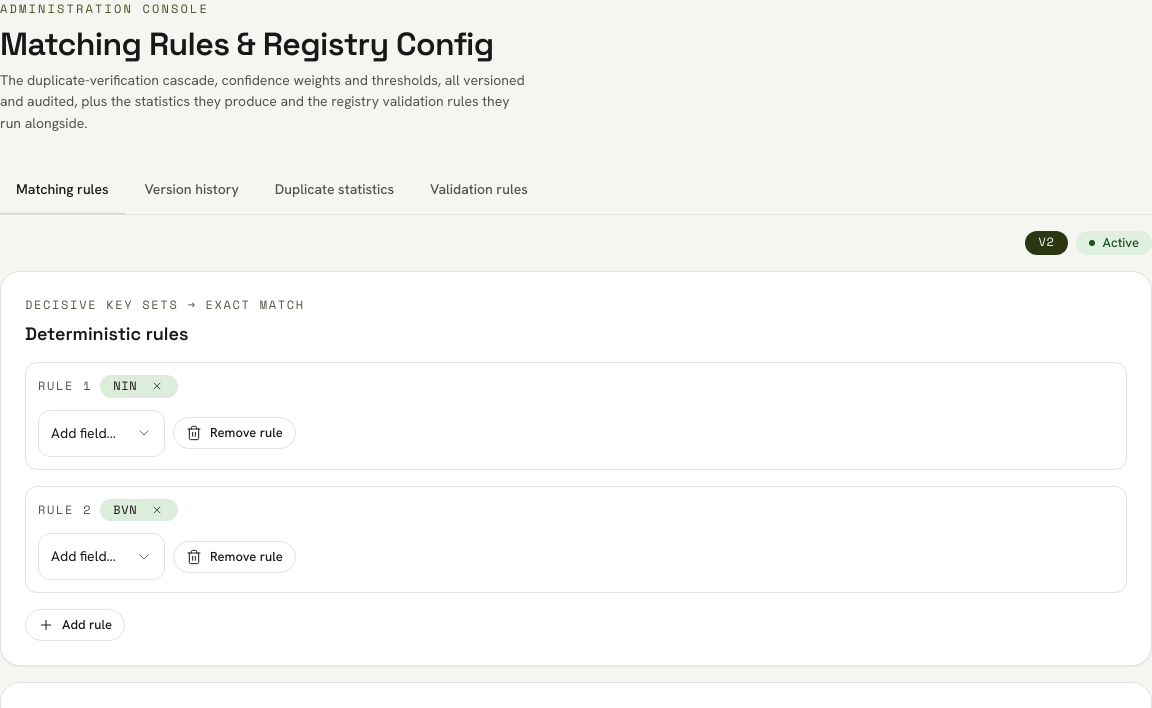
Test: Admin console — Matching Rules & Registry Config (composes Phase 3) › shows registry validation rules as READ-ONLY policy, never an editor
Expected: the text "v2" is shown, [1025,230,1068,255]
Step 1. Click the tab "Validation rules" → (479, 191), box [414,167,544,214]
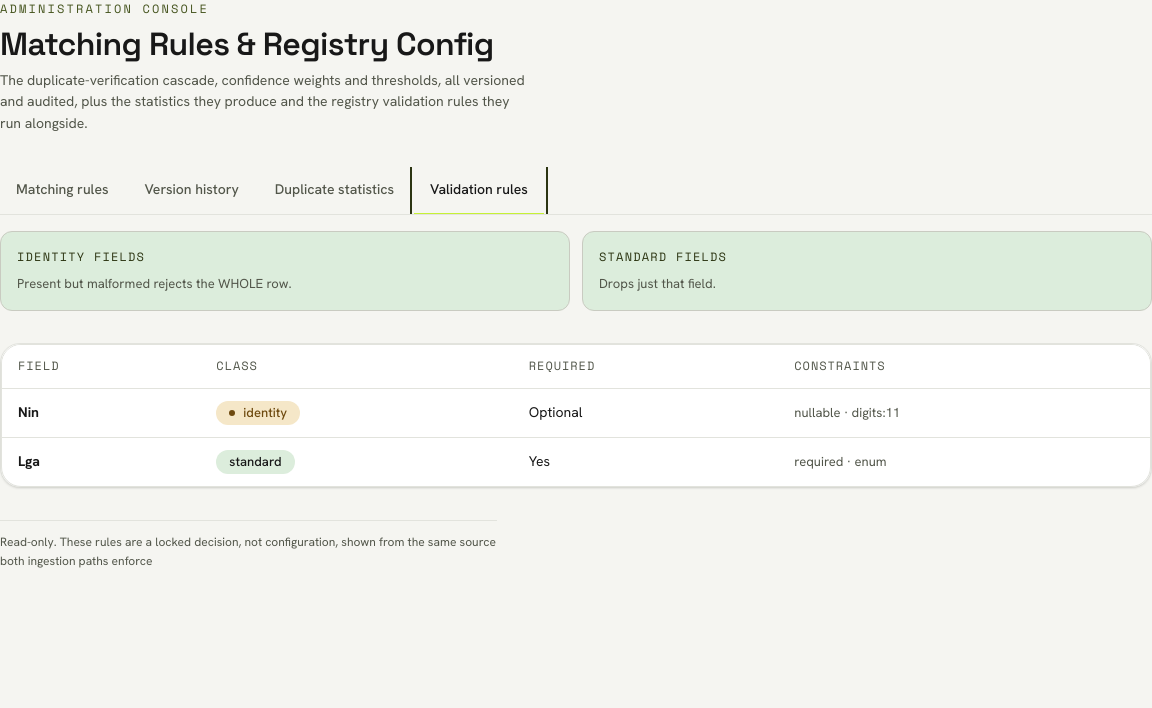
Result: the text "identity" is shown at [216,401,300,425]
Result: the text "standard" is shown at [216,450,294,474]
Result: the text "Present but malformed rejects the WHOLE row." is shown at [17,275,292,292]
